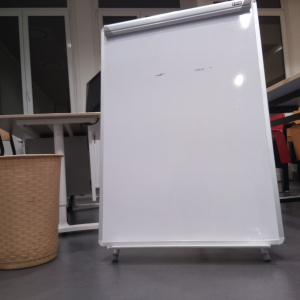big: (100, 7, 286, 255)
medium: (1, 152, 64, 269)
